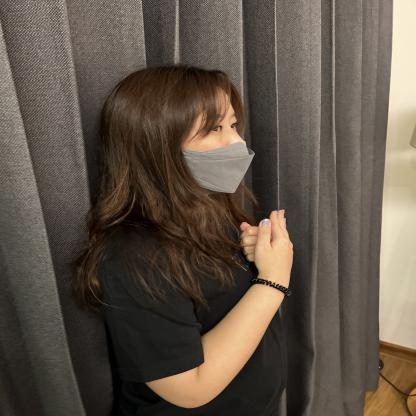Grieve: (168, 204, 354, 366)
